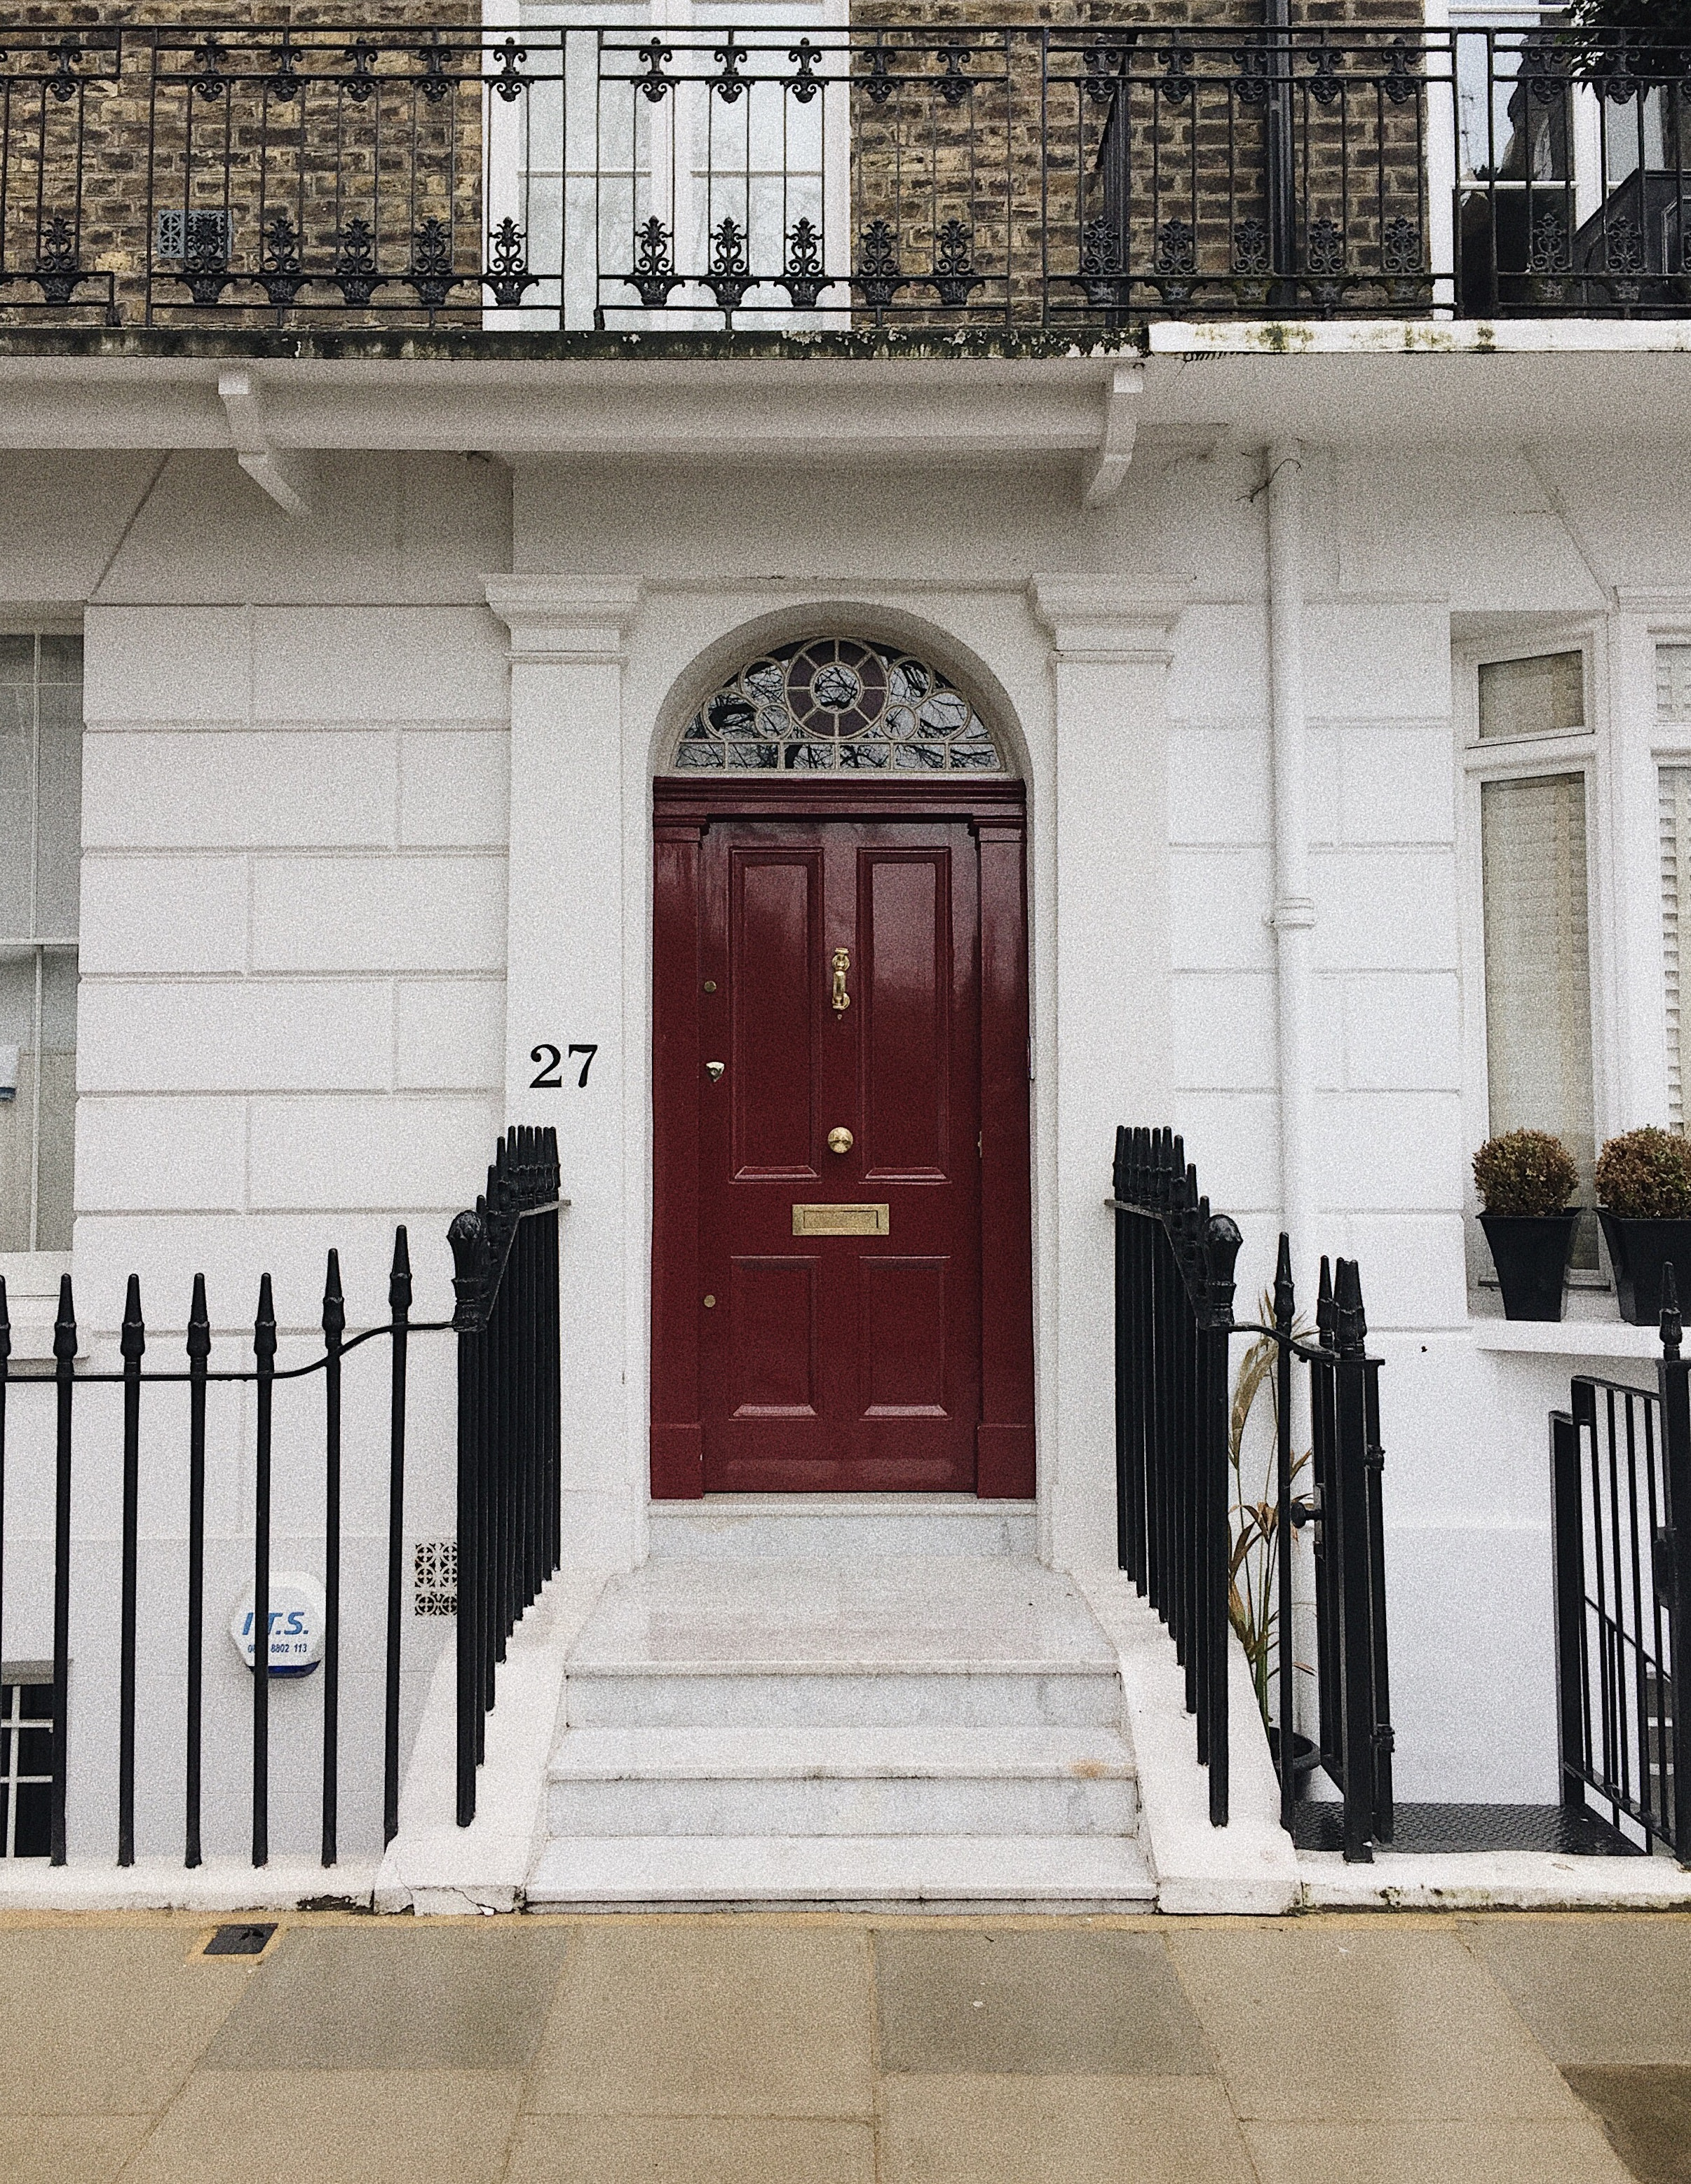upstairs: (578, 1642, 1120, 1962)
